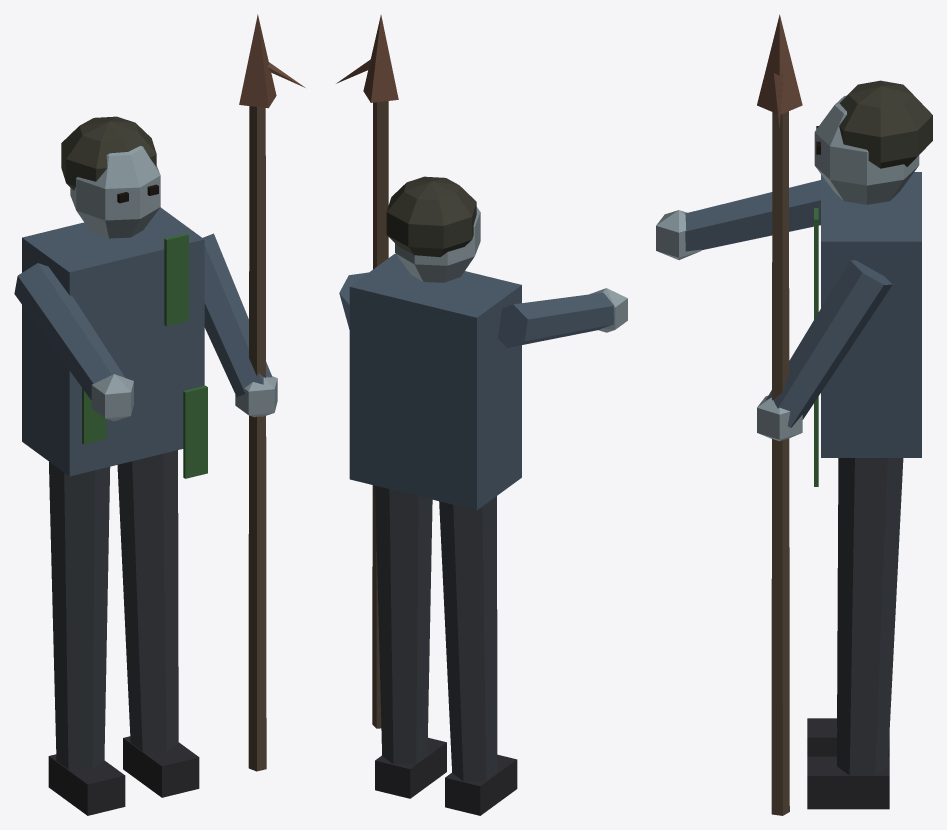
File: ertrunkener.glb
3 renders of one model, left to right at view 1: azimuth 30°, elevation 25°; view 2: azimuth 150°, elevation 25°; view 3: azimuth 270°, elevation 25°, orthographic. The views are drawn at different scales.
Size of the model in its own units: 0.6824 by 1.97 by 0.604.
1 material, 1 textured.
